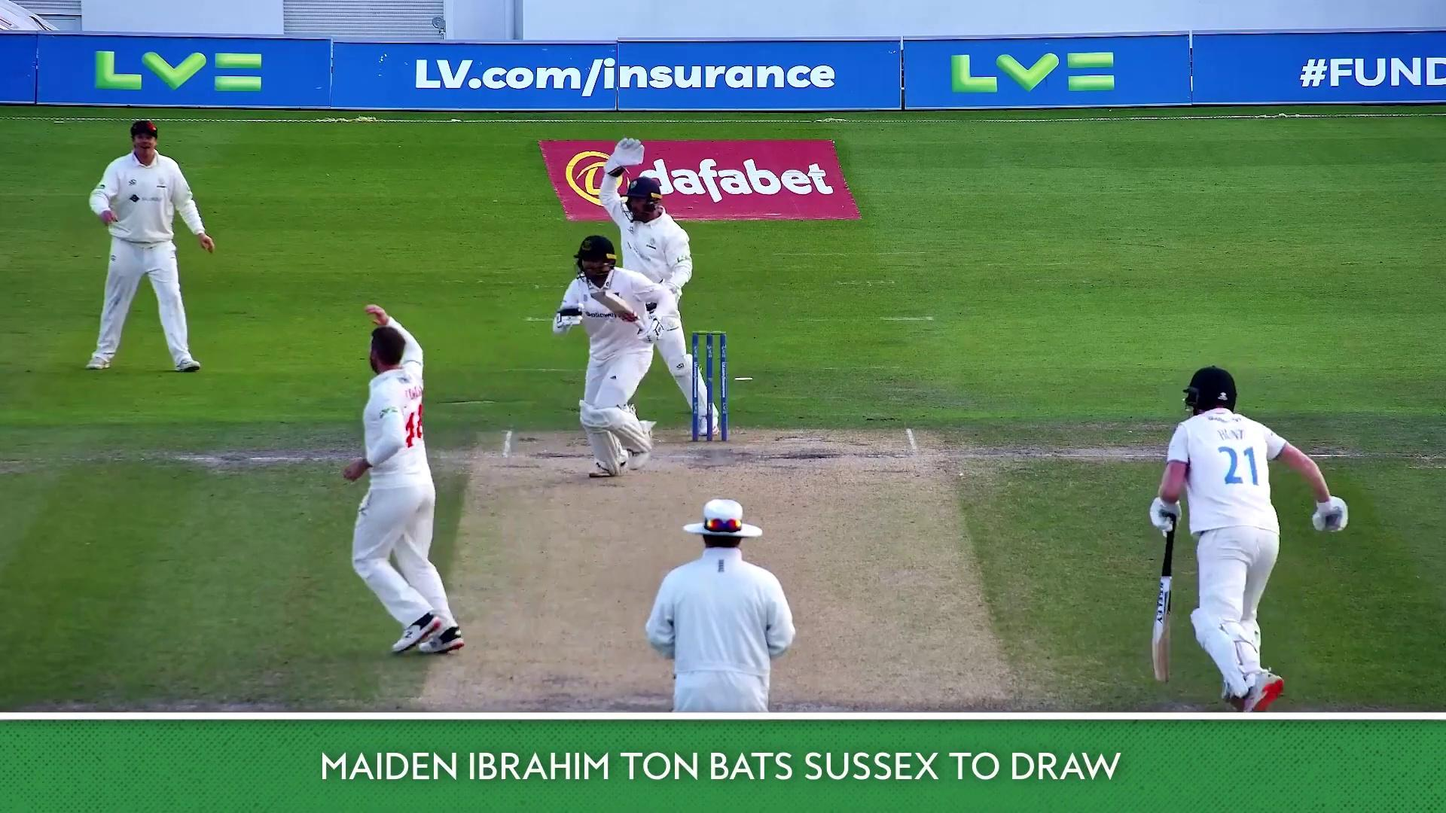batsman: (562, 231, 663, 469)
